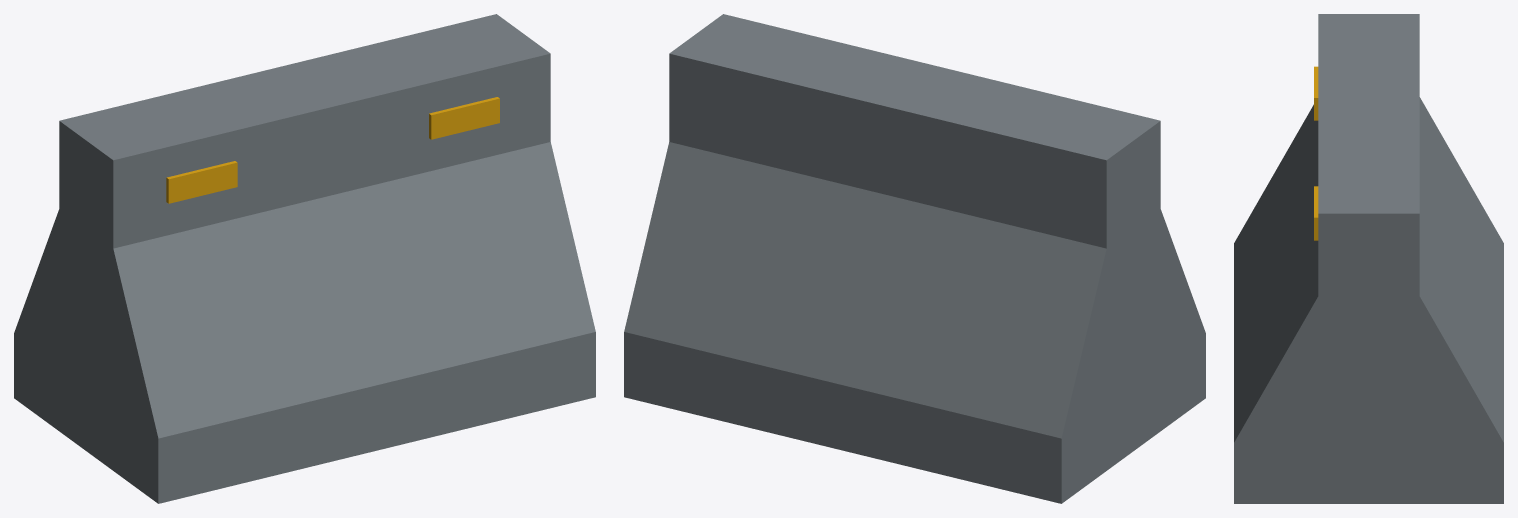
File: JerseyBarrierShort.fbx
The picture shows the model from 3 angles, left to right: view 1: azimuth 30°, elevation 25°; view 2: azimuth 150°, elevation 25°; view 3: azimuth 270°, elevation 25°; orthographic projection. The views are drawn at different scales.
Parts seen in each view (by area): view 1: JerseyBarrierShort; view 2: JerseyBarrierShort; view 3: JerseyBarrierShort.
Part boxes in pixels (<box>): JerseyBarrierShort: <box>14,14,595,503</box>; JerseyBarrierShort: <box>624,14,1205,503</box>; JerseyBarrierShort: <box>1234,14,1503,503</box>.
Bounding box in the file's own units: 140 × 95 × 80.
1 material, 1 textured.
